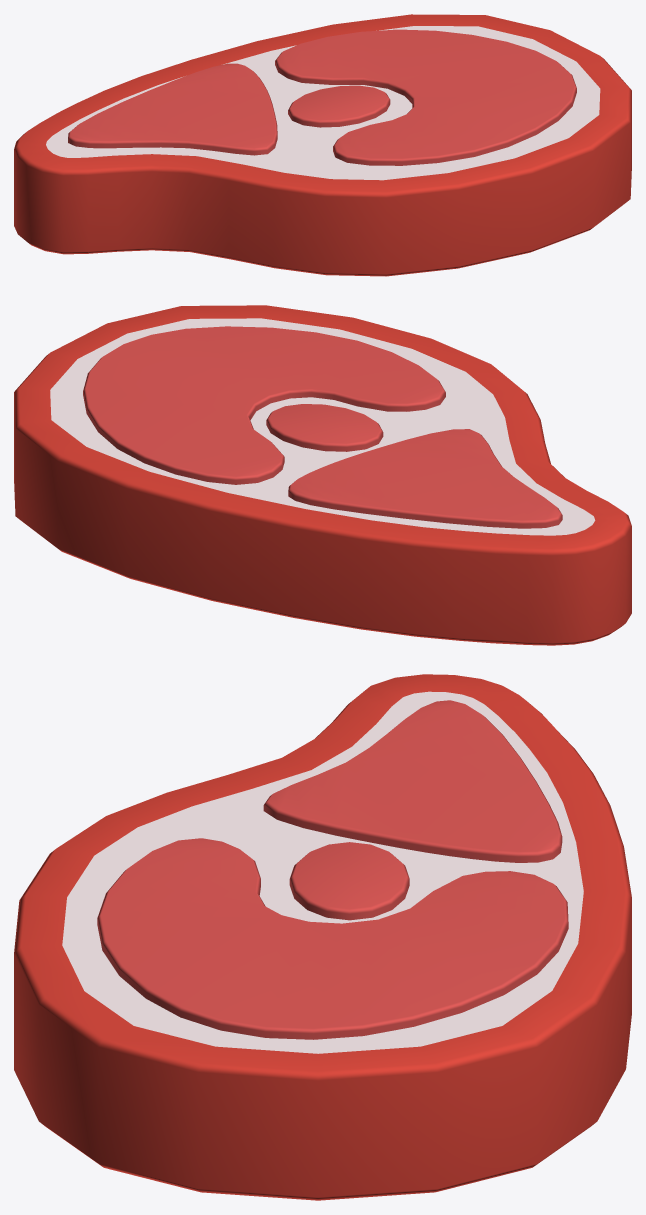
Rendered from Meat_Steak_2.fbx.
The picture shows the model from 3 angles, top to bottom: view 1: azimuth 30°, elevation 25°; view 2: azimuth 150°, elevation 25°; view 3: azimuth 270°, elevation 25°; orthographic projection. The views are drawn at different scales.
Visible parts, largest first — view 1: Meat_Steak_2; view 2: Meat_Steak_2; view 3: Meat_Steak_2.
Part boxes in pixels (x1,y1,x2,y2): Meat_Steak_2: (14,14,631,276); Meat_Steak_2: (14,305,631,645); Meat_Steak_2: (14,674,631,1200).
Size of the model in its own units: 43.47 by 7.48 by 28.16.
